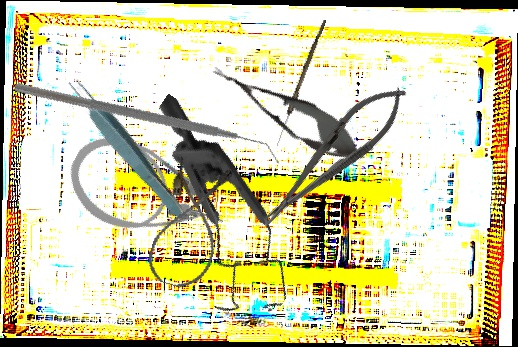Cannula: (54, 119, 238, 272), (142, 154, 239, 295)
Chopper: (12, 11, 281, 239)
Micro Scissor: (201, 50, 376, 176)
Needle Holder: (249, 72, 419, 238)
Speculum: (83, 93, 345, 338)
Surgical Spoon: (274, 18, 327, 148)
Tissue Forceps: (63, 72, 191, 223)
